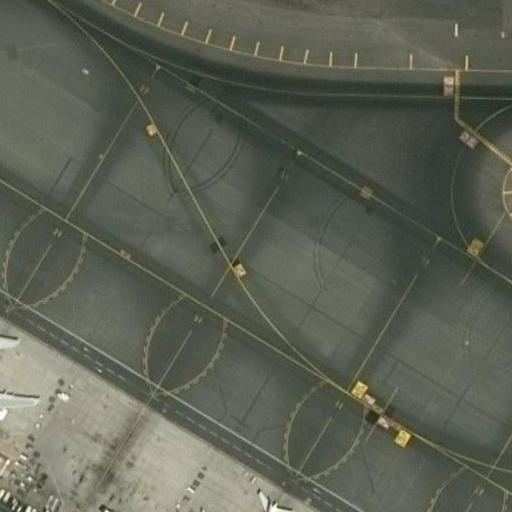Aircraft: (0, 304, 41, 448), (182, 479, 301, 512)
